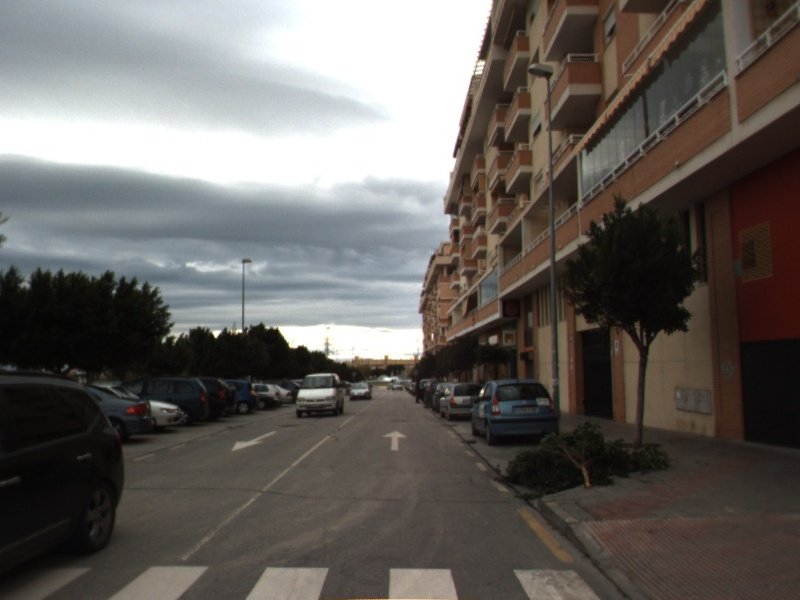STRAIGHT: (380, 427, 409, 452)
